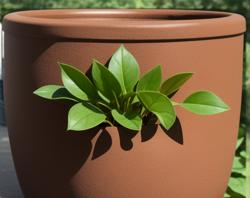pottedplant: (1, 8, 245, 198)
